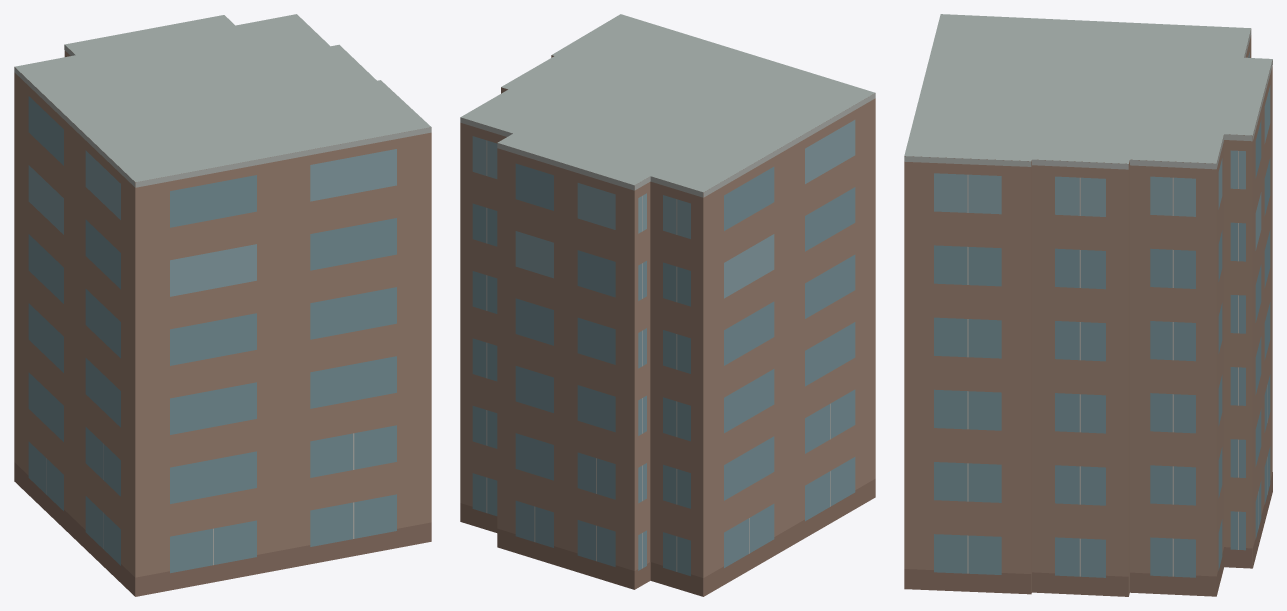
The model's file is survey-upis-32967962.glb.
3 renders of one model, left to right at view 1: azimuth 30°, elevation 25°; view 2: azimuth 150°, elevation 25°; view 3: azimuth 270°, elevation 25°, orthographic. The views are drawn at different scales.
Visible parts, largest first — view 1: survey-upis-32967962.tmp; view 2: survey-upis-32967962.tmp; view 3: survey-upis-32967962.tmp.
Part boxes in pixels (bbox=[...]): survey-upis-32967962.tmp: bbox=[14, 14, 431, 596]; survey-upis-32967962.tmp: bbox=[460, 14, 875, 596]; survey-upis-32967962.tmp: bbox=[904, 14, 1272, 596].
Bounding box in the file's own units: 13.67 × 18.4 × 14.2.
